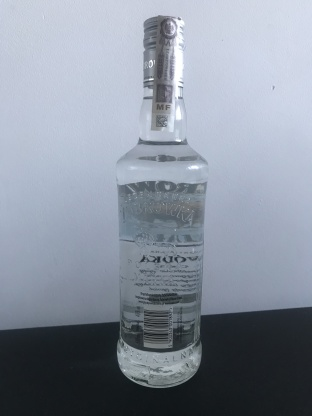nakretka: (139, 11, 186, 90)
